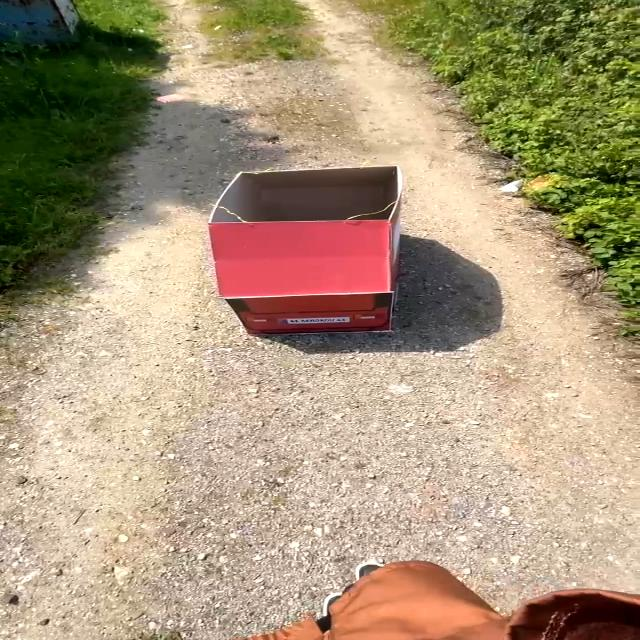red_car: (190, 159, 456, 337)
